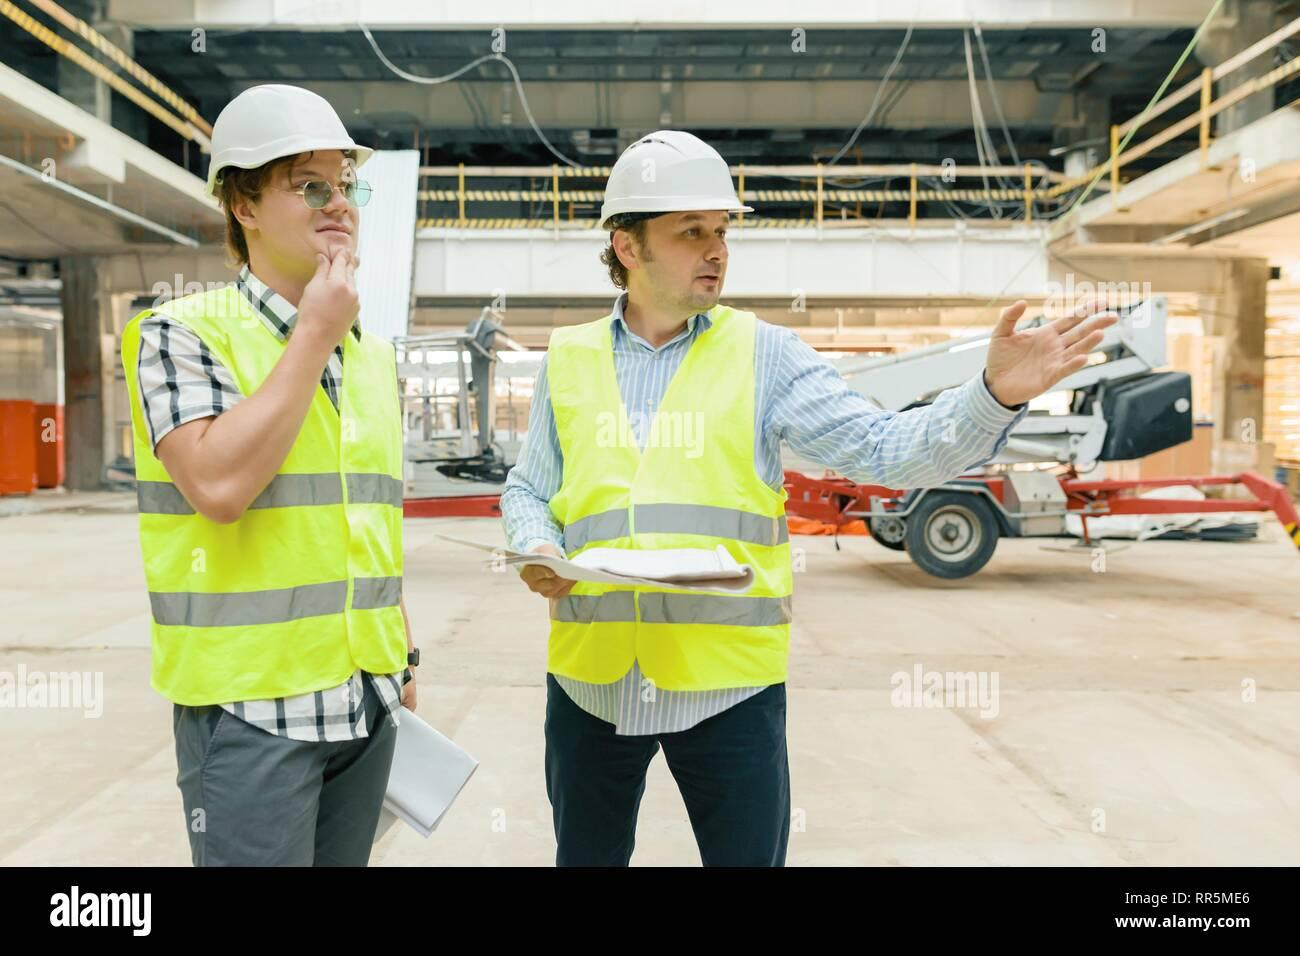hat: (554, 89, 791, 246), (176, 56, 399, 204)
vest: (109, 261, 449, 761), (516, 289, 829, 744)
